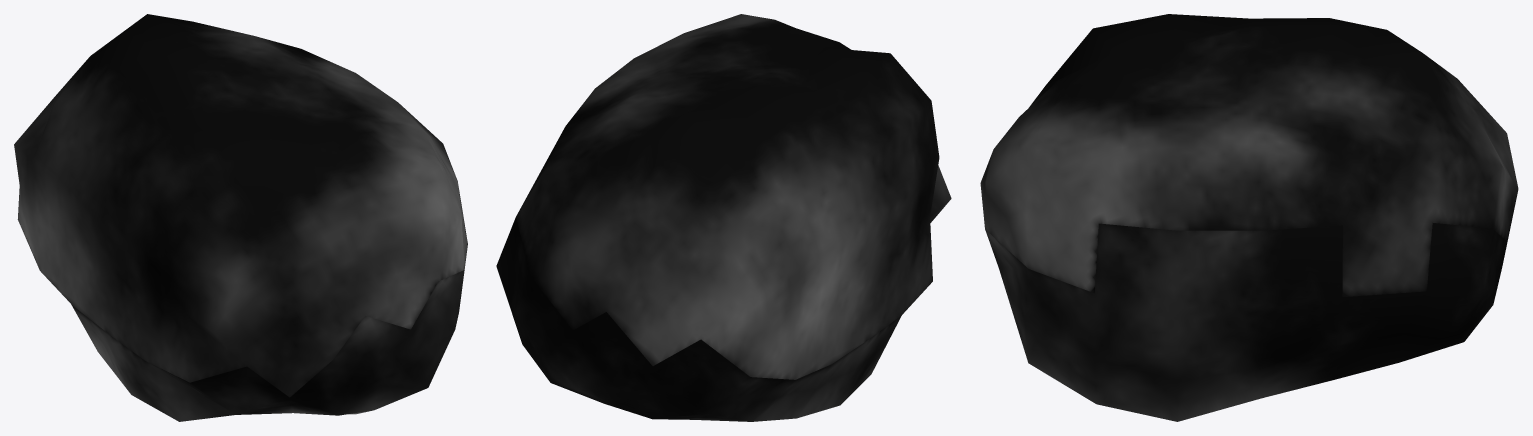
File: SM_rock_small_01.fbx
3 renders of one model, left to right at view 1: azimuth 30°, elevation 25°; view 2: azimuth 150°, elevation 25°; view 3: azimuth 270°, elevation 25°, orthographic. The views are drawn at different scales.
Parts seen in each view (by area): view 1: SM_rock_small_01_LOD0; view 2: SM_rock_small_01_LOD0; view 3: SM_rock_small_01_LOD0.
Part boxes in pixels (x1,y1,x2,y2): SM_rock_small_01_LOD0: (14, 14, 467, 421); SM_rock_small_01_LOD0: (496, 14, 951, 421); SM_rock_small_01_LOD0: (980, 14, 1518, 421).
Bounding box in the file's own units: 62.62 × 88.99 × 58.63.
1 material, 1 textured.
